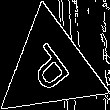P_SE: (22, 36, 79, 99)
